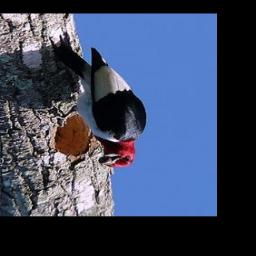Woodpecker: (43, 32, 150, 177)
